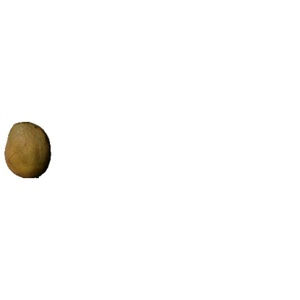mamão: (3, 120, 54, 183)
